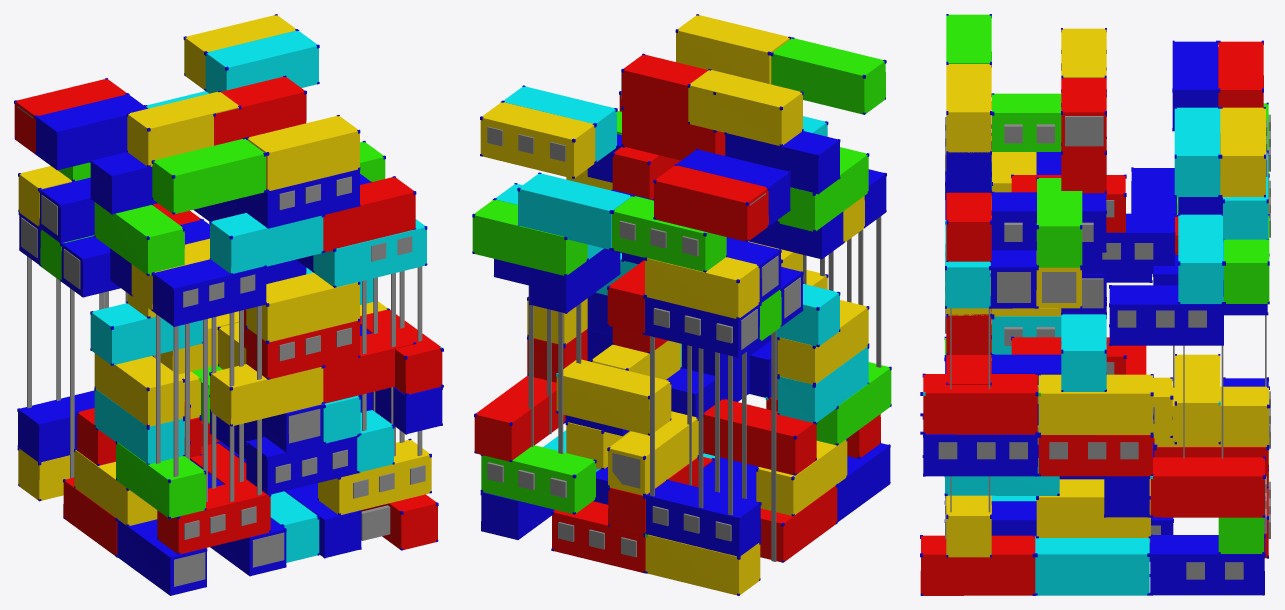
Rendered from ParentPart07FBX.FBX.
3 views of the same model, side by side, from view 1: azimuth 30°, elevation 25°; view 2: azimuth 150°, elevation 25°; view 3: azimuth 270°, elevation 25° (orthographic). The views are drawn at different scales.
Parts seen in each view (by area): view 1: ParentPart7; view 2: ParentPart7; view 3: ParentPart7.
Boxes of the visible parts, left/top/right/bottom form: ParentPart7: left=14, top=14, right=443, bottom=595; ParentPart7: left=472, top=14, right=891, bottom=595; ParentPart7: left=920, top=14, right=1270, bottom=595.
Bounding box in the file's own units: 6.01 × 6.29 × 8.92.
